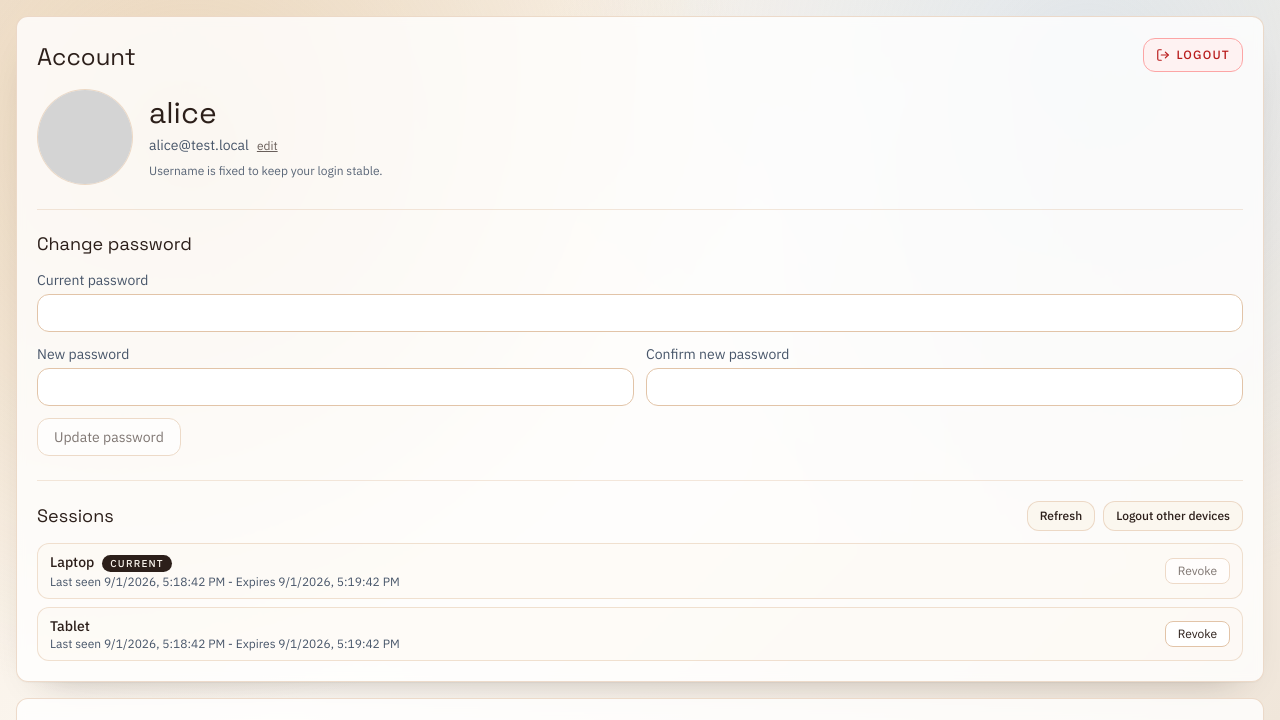
Test case: AccountView › logs out other devices and refreshes sessions
Click the button "Logout other devices": (1173, 516) x1=1103 y1=501 x2=1243 y2=531
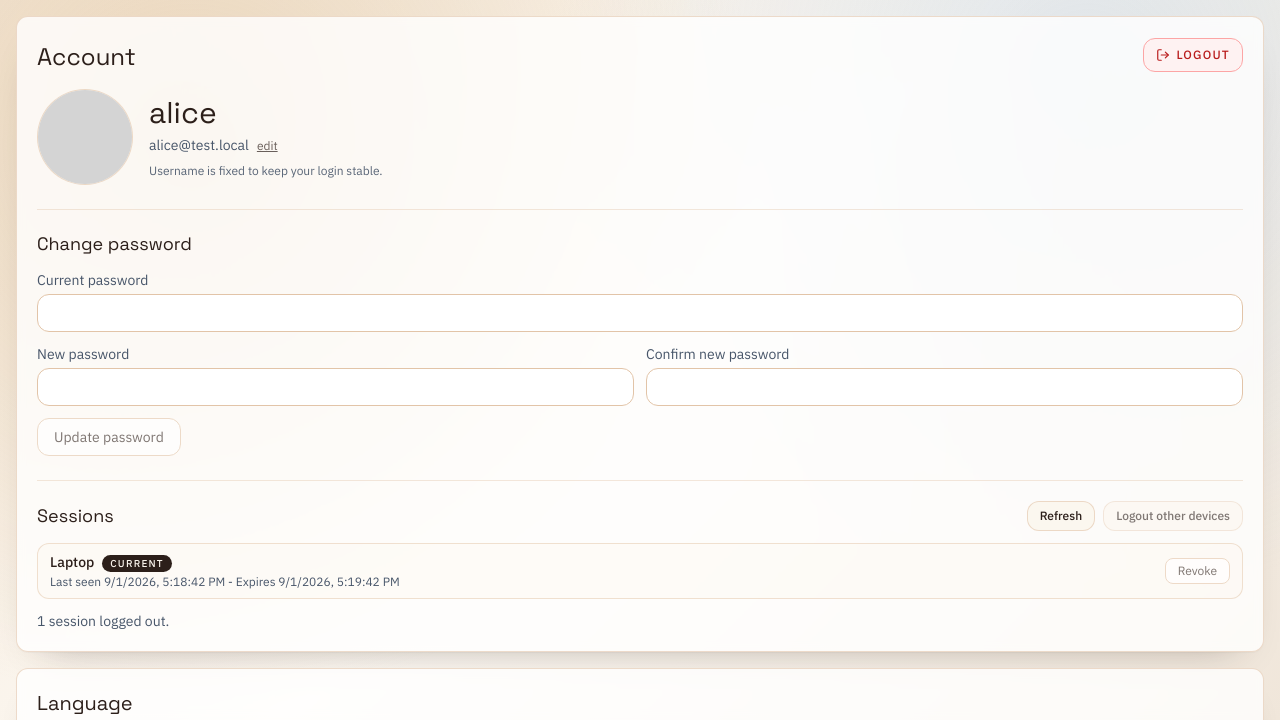
Now the text "1 session logged out." is shown, box x1=37 y1=612 x2=169 y2=630
